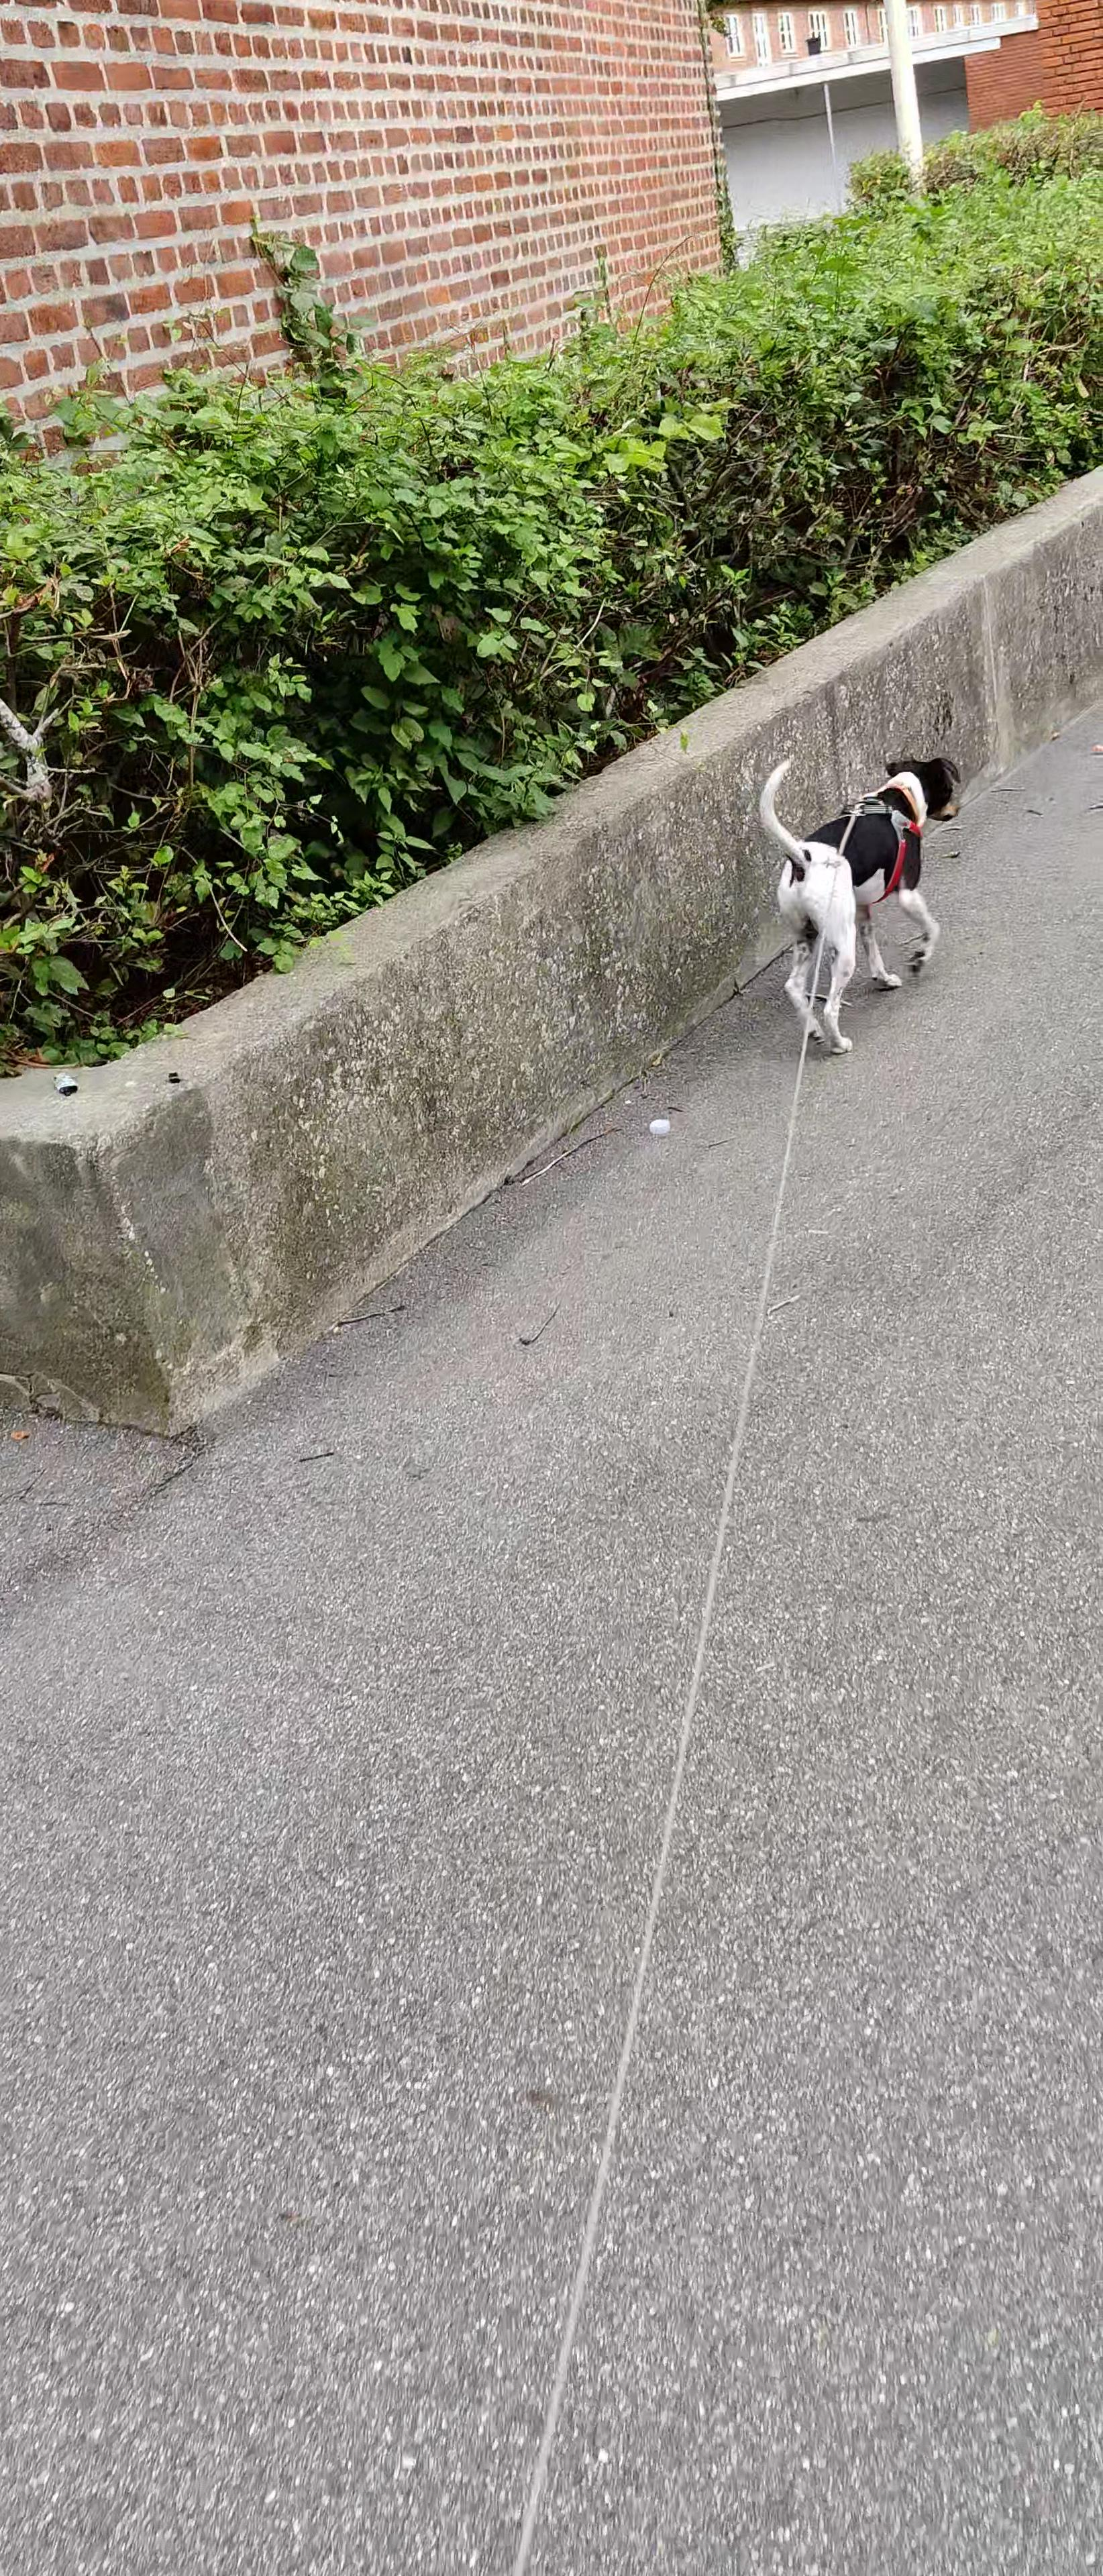Dog: (755, 752, 965, 1058)
